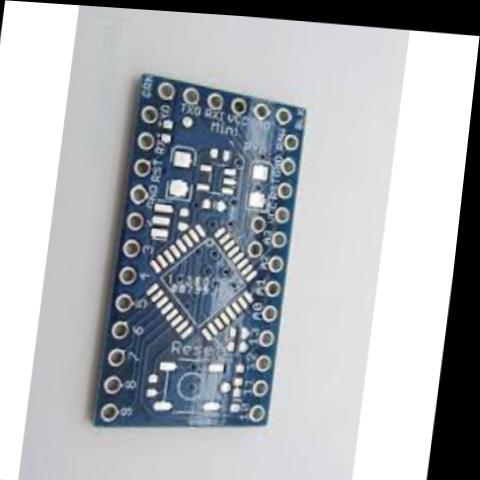Arduino-Pro-Mini: (79, 67, 336, 451)
